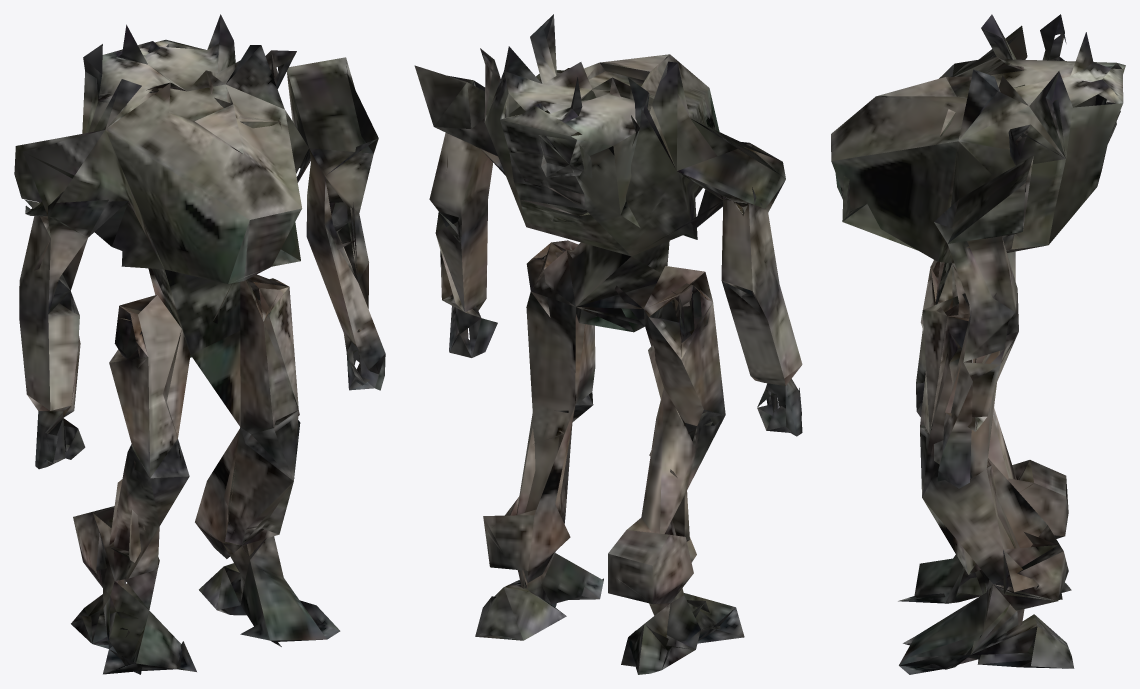
File: mech_894579150_lod0.glb
3 renders of one model, left to right at view 1: azimuth 30°, elevation 25°; view 2: azimuth 150°, elevation 25°; view 3: azimuth 270°, elevation 25°, orthographic. The views are drawn at different scales.
Bounding box in the file's own units: 3.8 × 6.12 × 2.79.
Materials: 1 (1 with a texture image).
